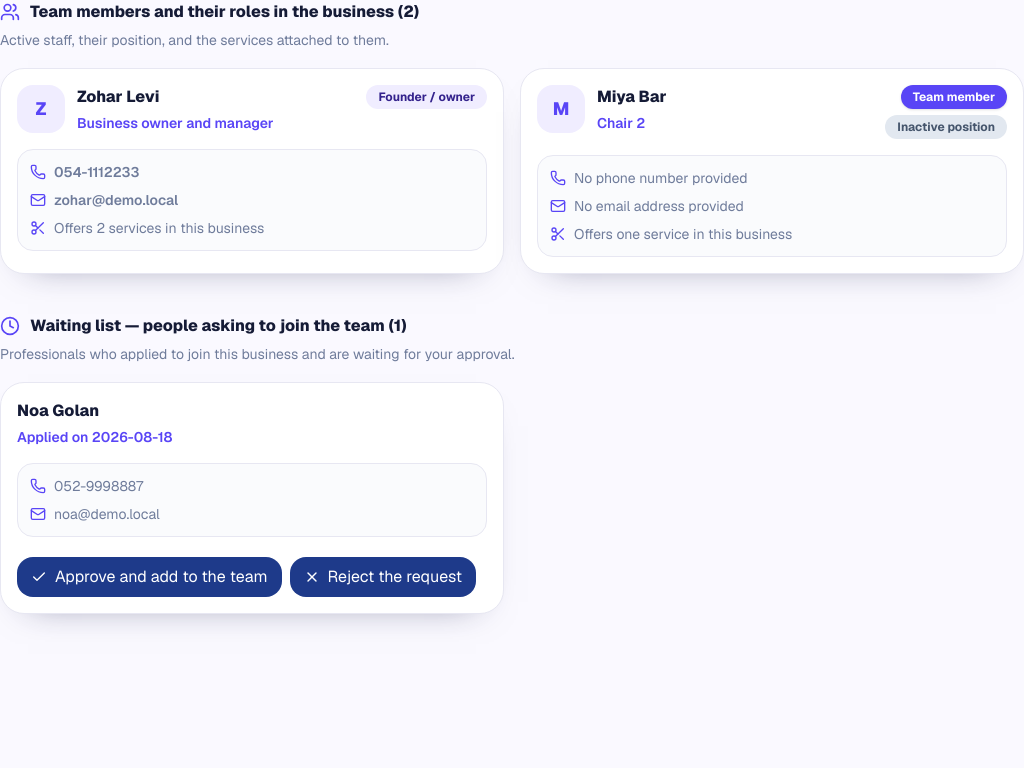
Test: business staff screen › keeps the dialog open and shows why when the decision is refused
The width and height of the screenshot is (1024, 768).
What coordinates should you click on to do the following:
click the button "Reject the request"
I would click on:
 (383, 577)
Its box is [290,557,476,597].
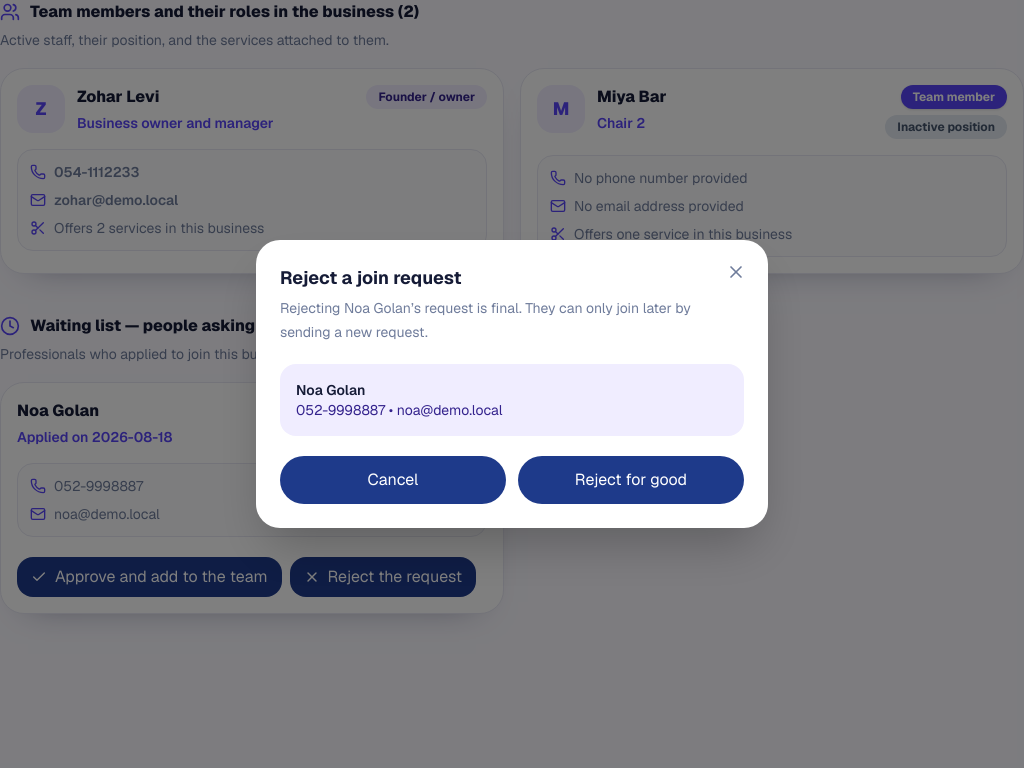
What coordinates should you click on to do the following:
click the button "Reject for good"
I would click on:
 (631, 480)
Its box is [518,456,744,504].
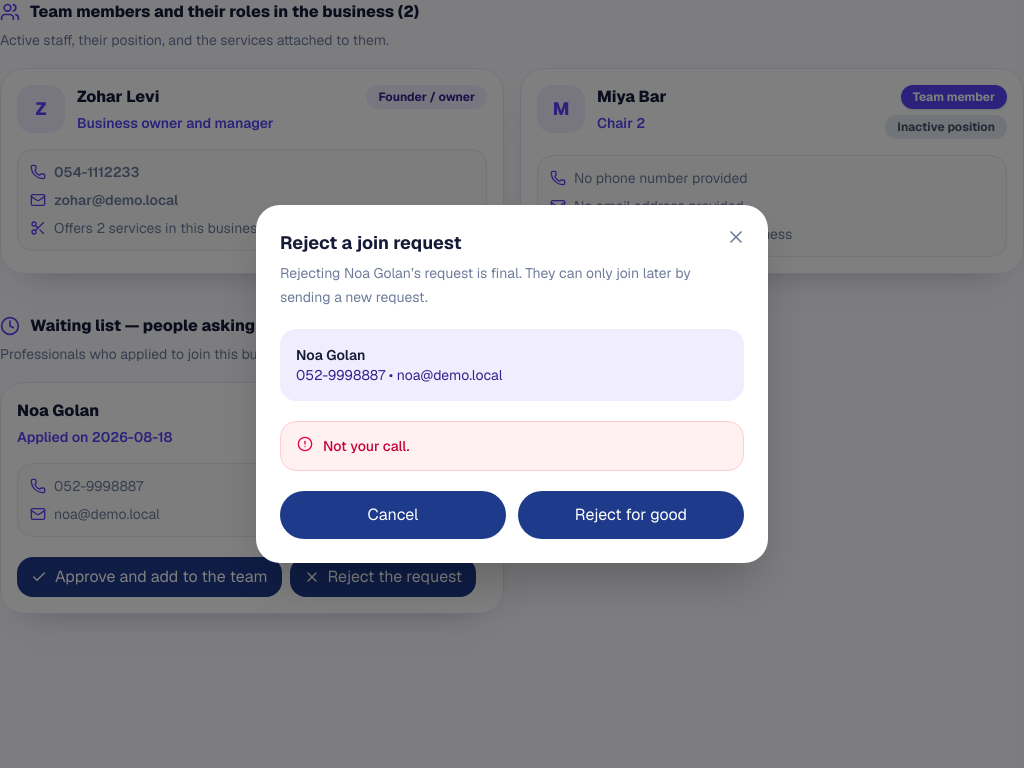
Check: the dialog is shown, box [256,205,768,563]
Check: the message reads "Not your call.", box [323,437,410,455]
